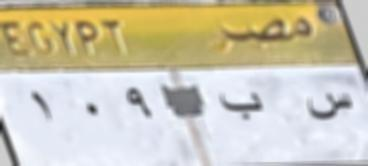0: (78, 88, 109, 126)
1: (18, 89, 60, 128)
9: (118, 80, 160, 127)
baa: (214, 86, 268, 125)
seen: (304, 84, 360, 133)
